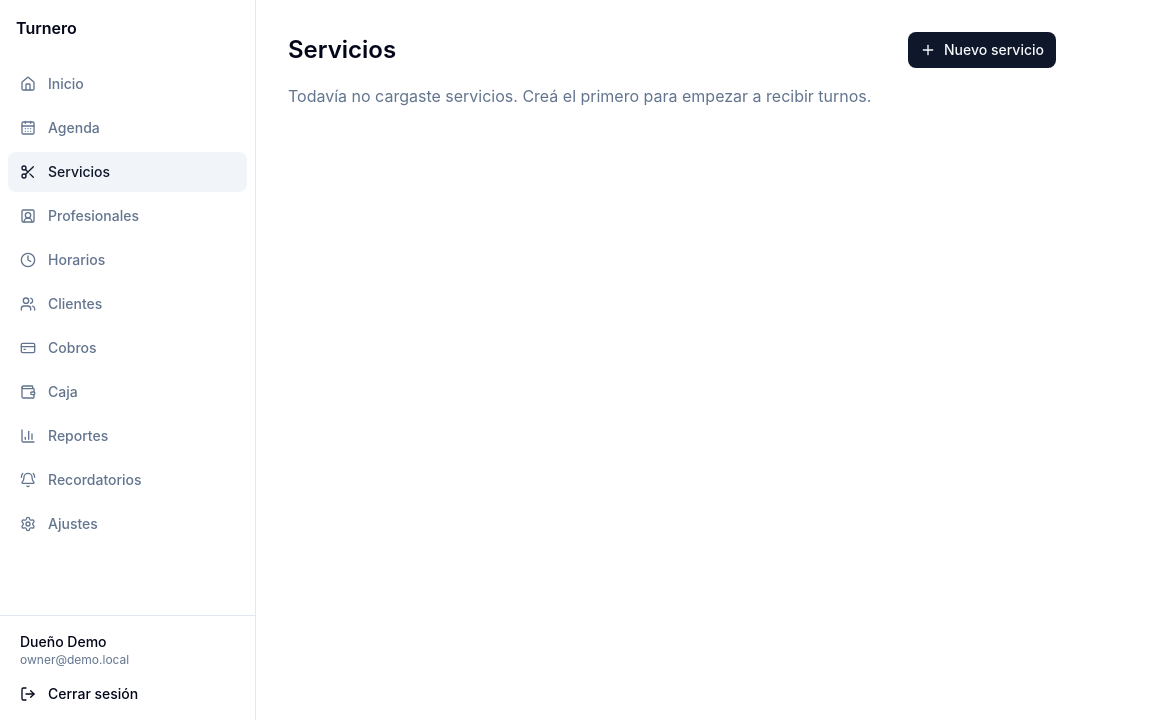
services page › creates a service and refreshes the list
This screenshot has width=1152, height=720.
Click the button "Nuevo servicio". click: (982, 50)
box: [908,32,1056,68]
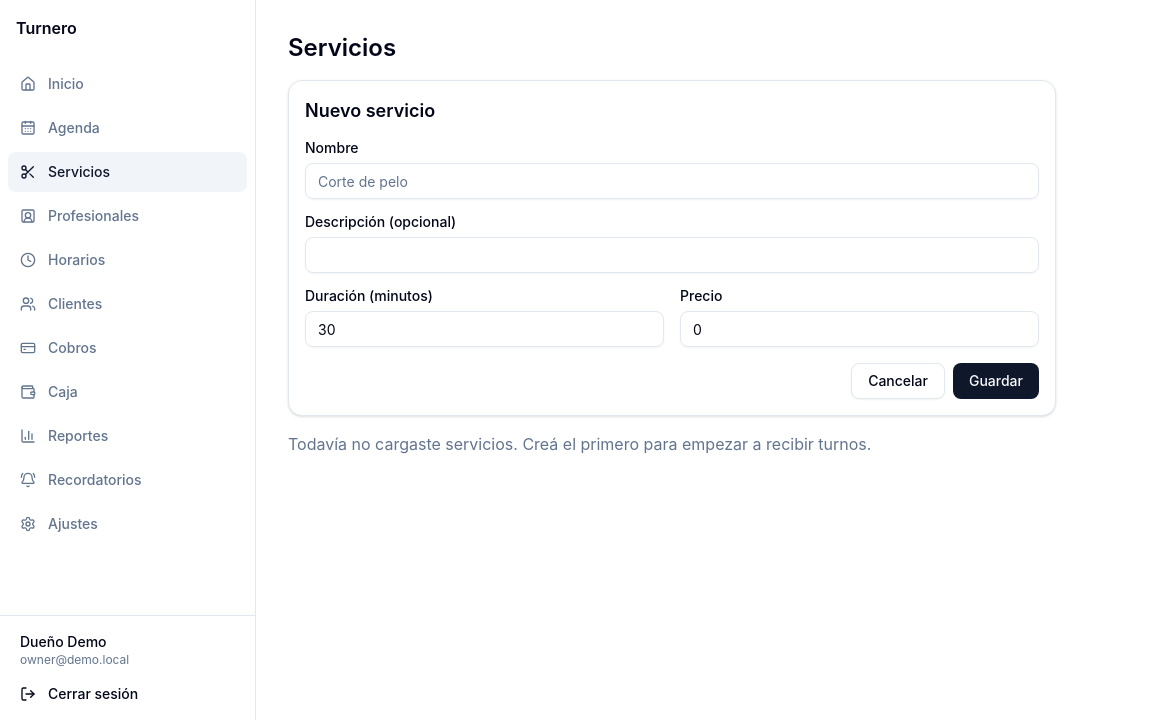
Type "Corte" into the field labelled "Nombre". click: (672, 181)
box: [305,163,1039,199]
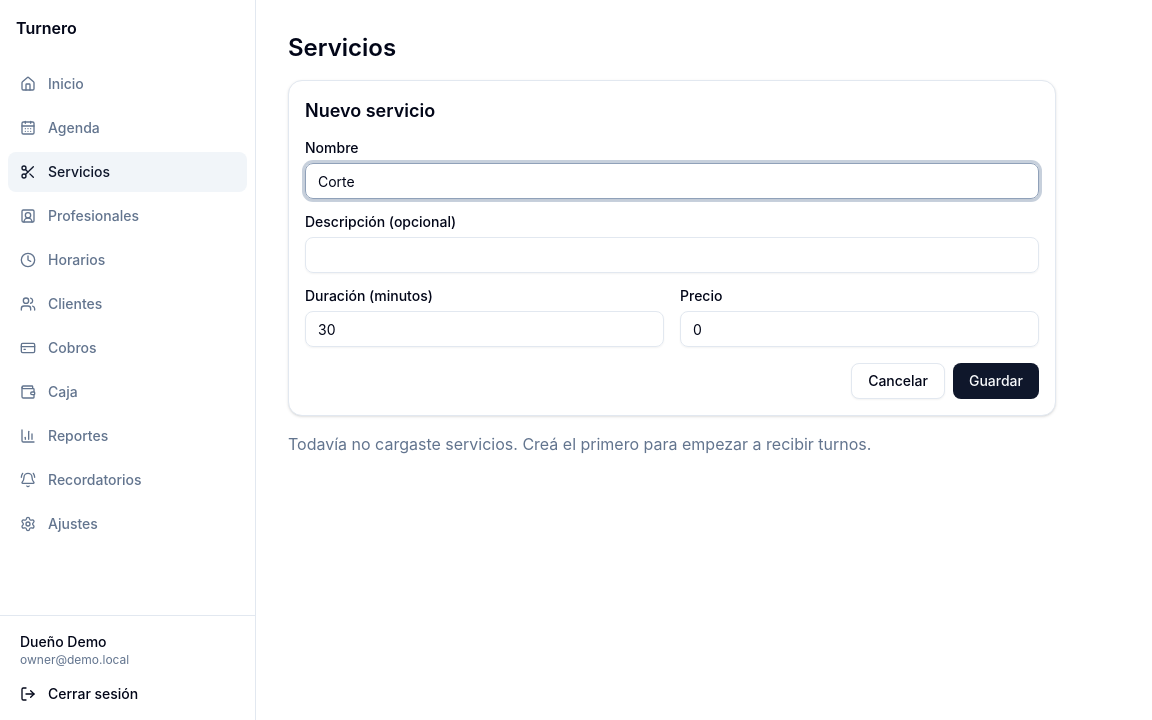
Replace the text in the number field labelled "Precio" with "8500". click: (860, 329)
box: [680,311,1039,347]
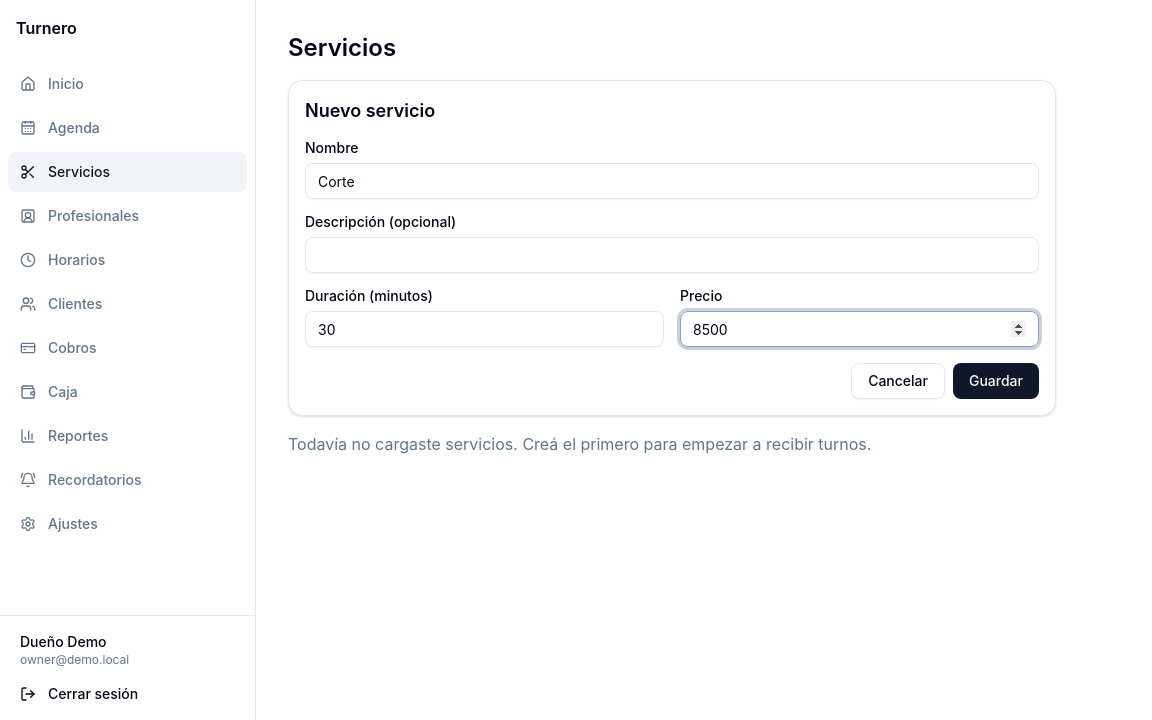
Click the button "Guardar". click: (996, 381)
box: [953,363,1039,399]
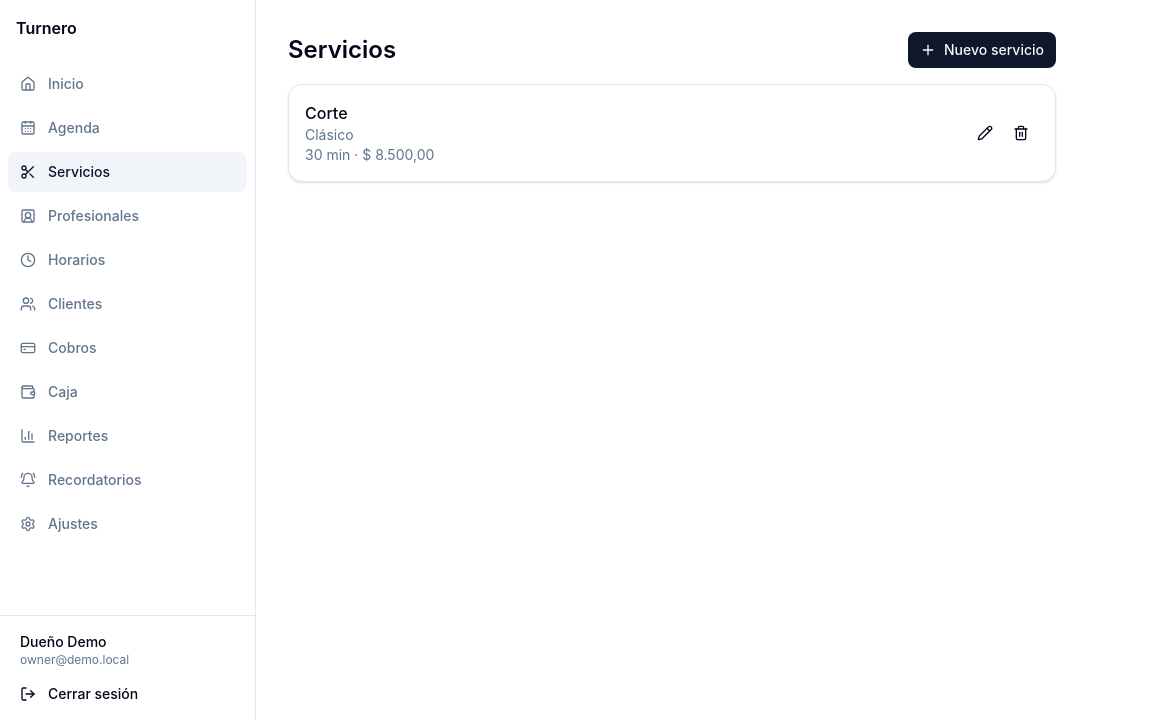
Expected: the text "30 min · $ 8.500,00" is shown, [305,145,434,165]
Expected: the form is gone
